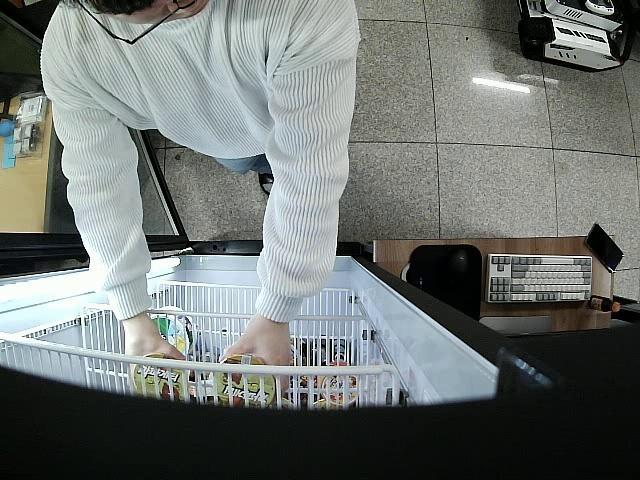04_chapagetti_S: (215, 354, 278, 407), (130, 353, 190, 404)
